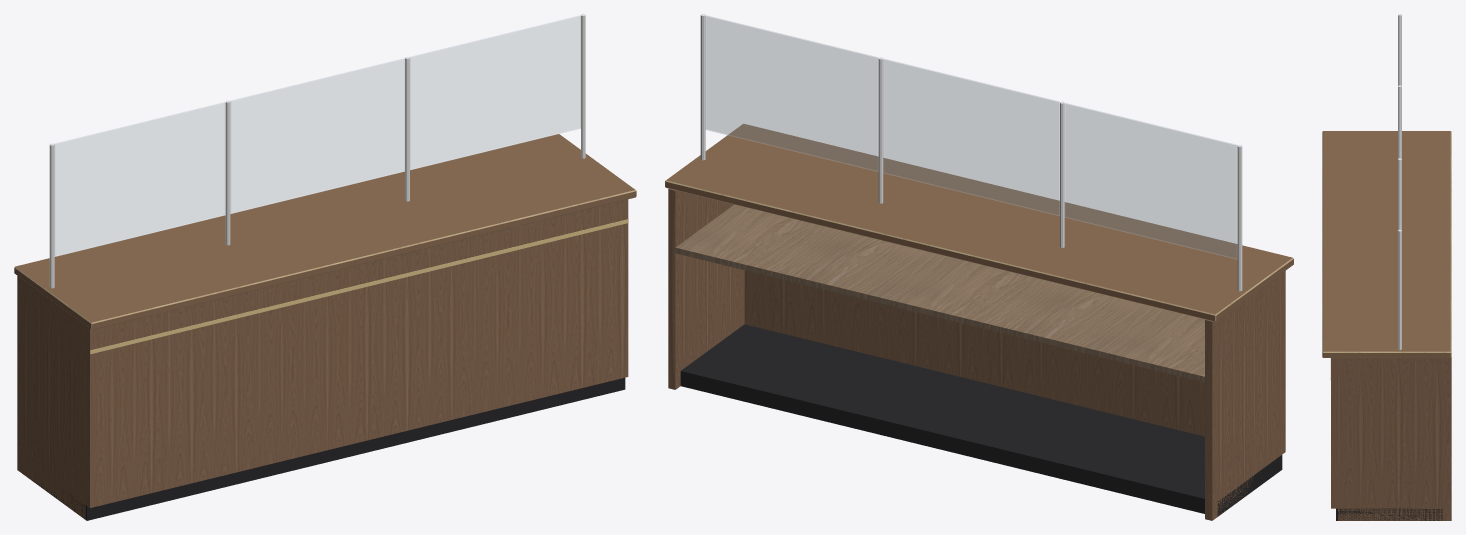
Rendered from service_counter.glb.
The picture shows the model from 3 angles, left to right: view 1: azimuth 30°, elevation 25°; view 2: azimuth 150°, elevation 25°; view 3: azimuth 270°, elevation 25°; orthographic projection. The views are drawn at different scales.
Parts seen in each view (by area): view 1: service_counter; view 2: service_counter; view 3: service_counter.
Boxes of the visible parts, x1,y1,x2,y2 form: service_counter: [14, 14, 636, 520]; service_counter: [665, 14, 1293, 520]; service_counter: [1322, 14, 1451, 520].
Size of the model in its own units: 3.04 by 1.85 by 0.75.
7 materials, 3 textured.
